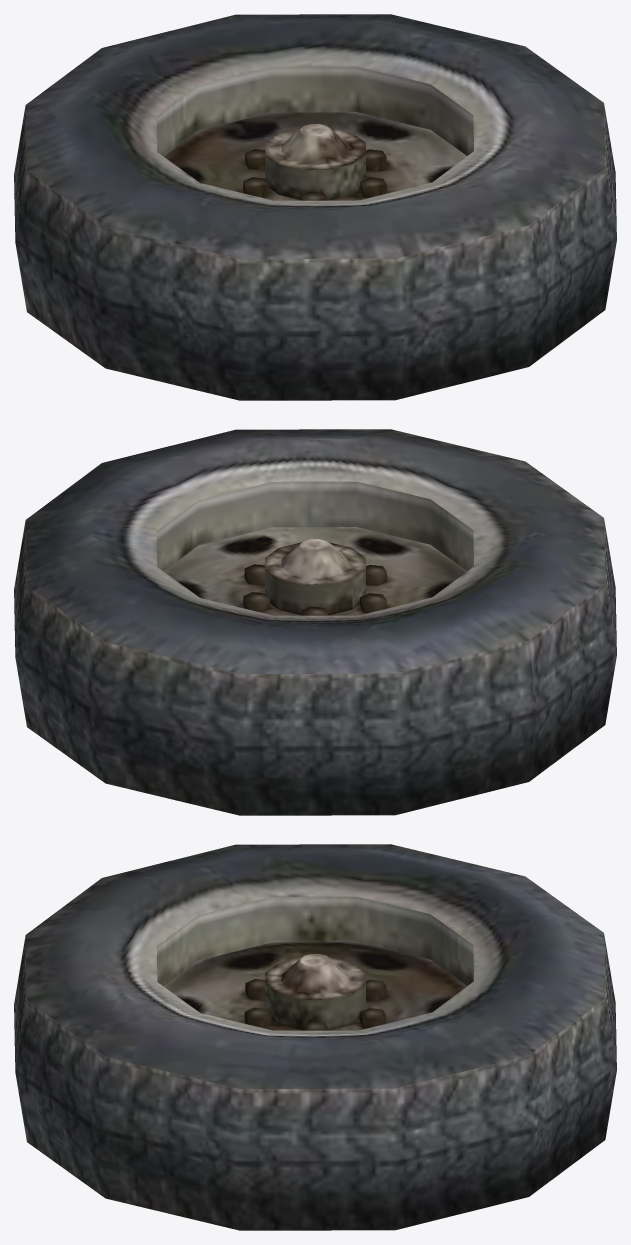
Rendered from tire1.glb.
3 views of the same model, one above another, from view 1: azimuth 30°, elevation 25°; view 2: azimuth 150°, elevation 25°; view 3: azimuth 270°, elevation 25° (orthographic).
Parts seen in each view (by area): view 1: 0_tirestack; view 2: 0_tirestack; view 3: 0_tirestack.
Boxes of the visible parts, box(x1,y1,x2,y2) form: 0_tirestack: box(14, 14, 616, 400); 0_tirestack: box(14, 429, 616, 815); 0_tirestack: box(14, 844, 616, 1230).
Bounding box in the file's own units: 1.18 × 0.3833 × 1.18.
1 material, 1 textured.
